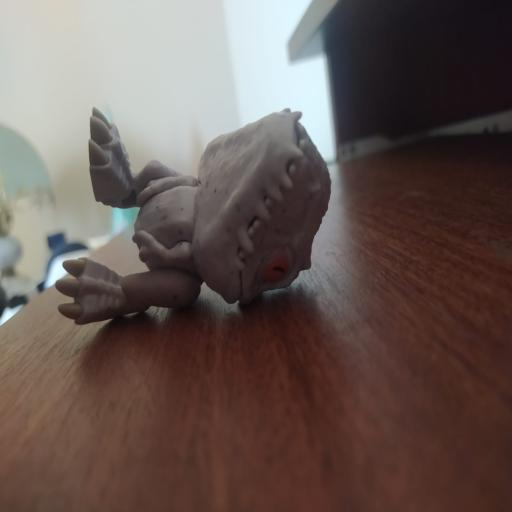Dinosaurio: (51, 100, 340, 337)
